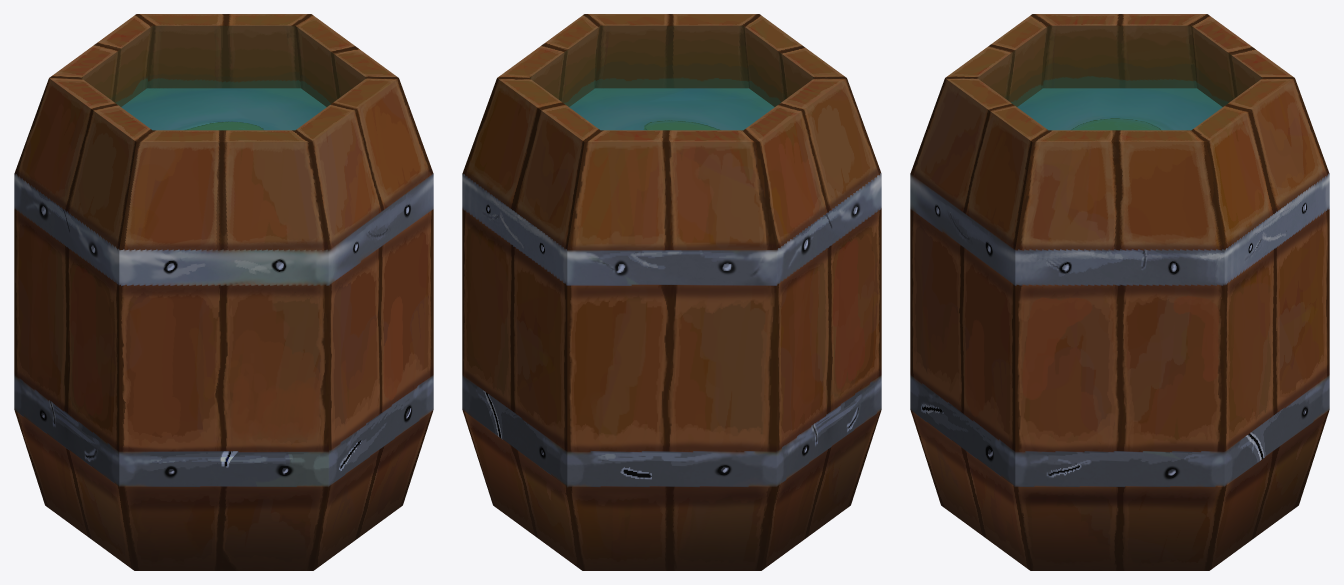
The model's file is readybarrel.fbx.
The picture shows the model from 3 angles, left to right: view 1: azimuth 30°, elevation 25°; view 2: azimuth 150°, elevation 25°; view 3: azimuth 270°, elevation 25°; orthographic projection.
Parts seen in each view (by area): view 1: Cylinder; view 2: Cylinder; view 3: Cylinder.
Part boxes in pixels (x1,y1,x2,y2): Cylinder: (14,14,433,570); Cylinder: (462,14,881,570); Cylinder: (910,14,1329,570).
Bounding box in the file's own units: 147 × 191 × 170.
Materials: 1 (1 with a texture image).
